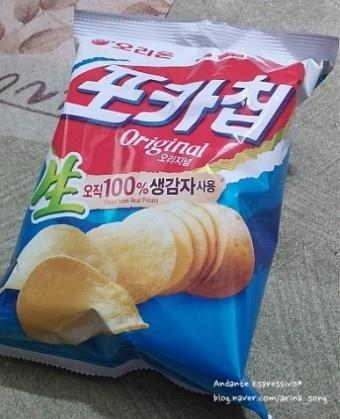snack: (0, 7, 340, 419)
